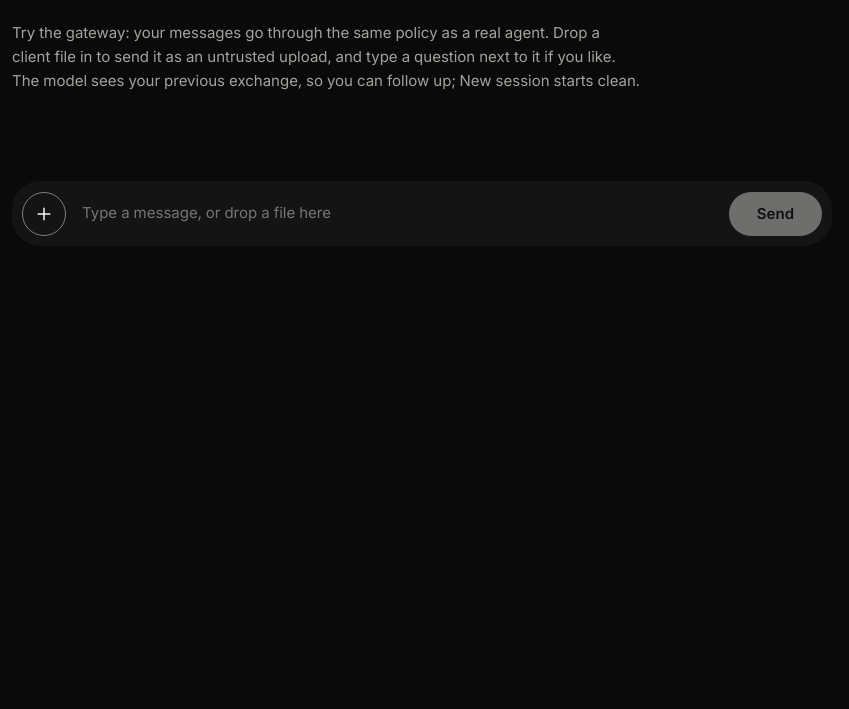
Test: prompts › describes held, redacted and external outcomes in plain words
In the text box labelled "message": (397,213) top-left (78, 191), bottom-right (717, 236), type "one"
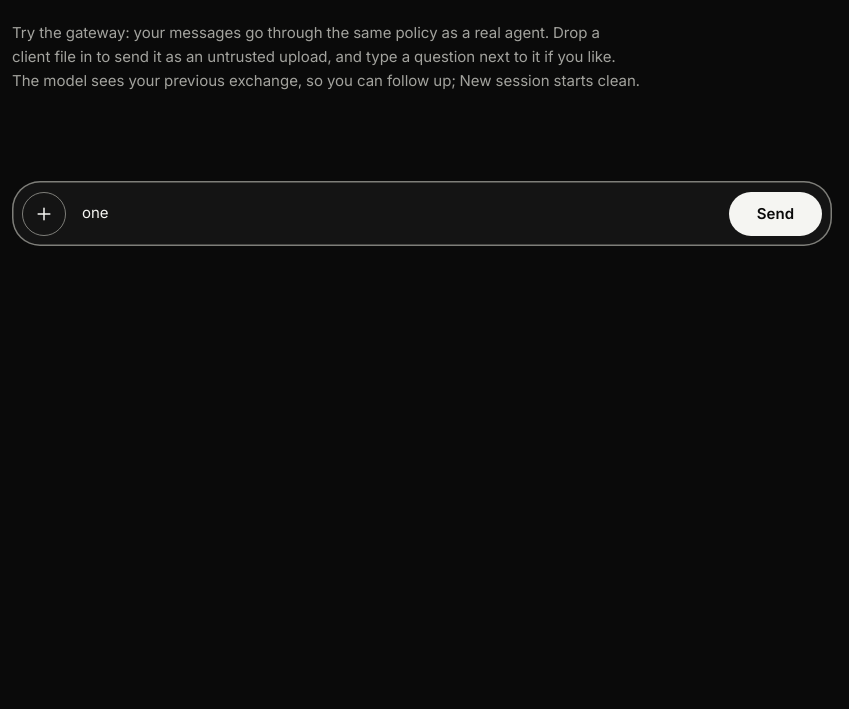
Click the button "Send": (775,214) top-left (729, 192), bottom-right (822, 236)
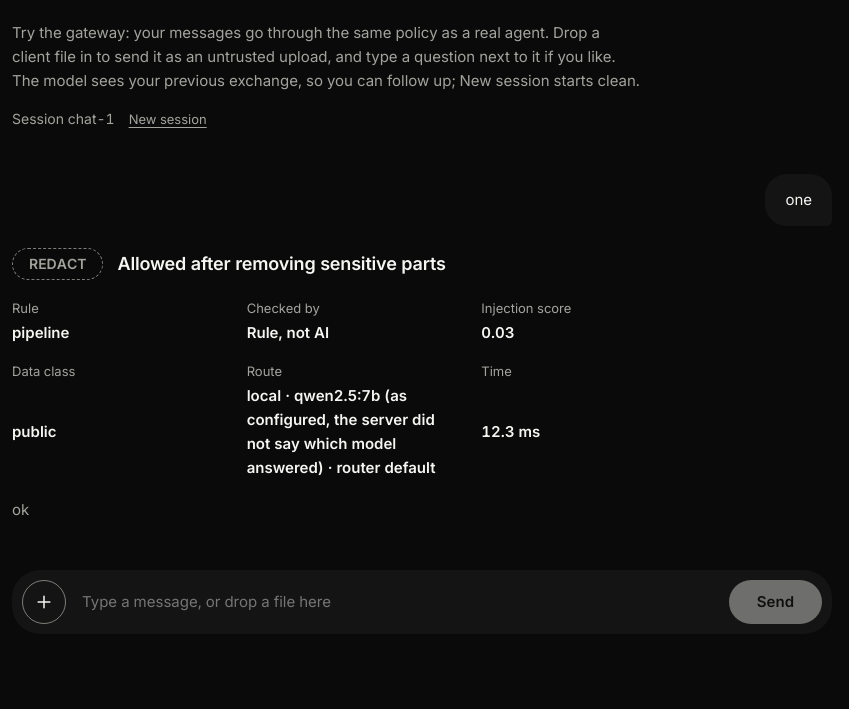
Expected: the text "Allowed after removing sensitive parts" is shown, top-left (118, 250), bottom-right (446, 278)
In the text box labelled "message": (397,602) top-left (78, 580), bottom-right (717, 624), type "two"
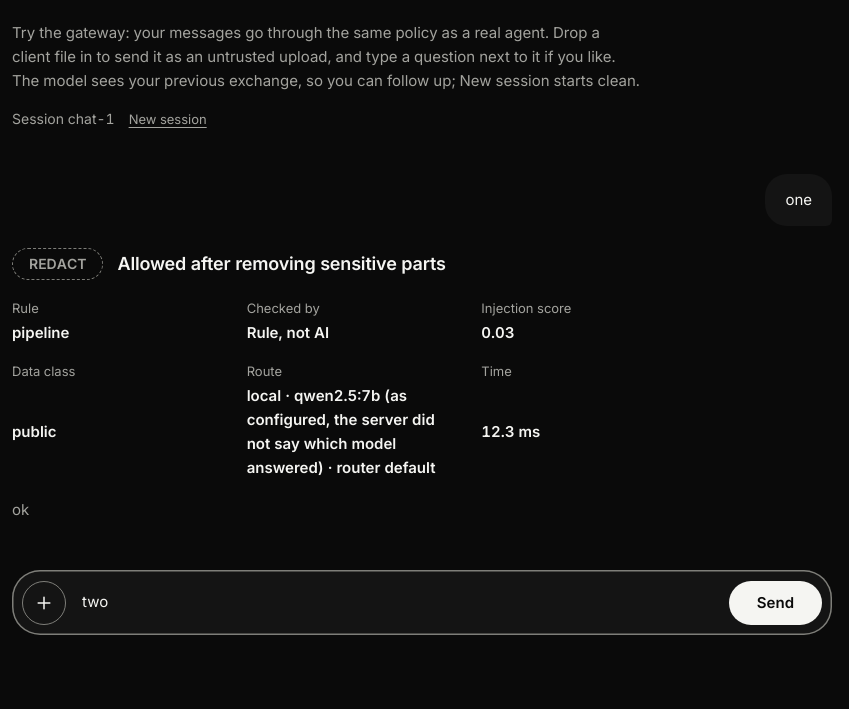
Click the button "Send": (775,603) top-left (729, 581), bottom-right (822, 625)
(page scrolled)
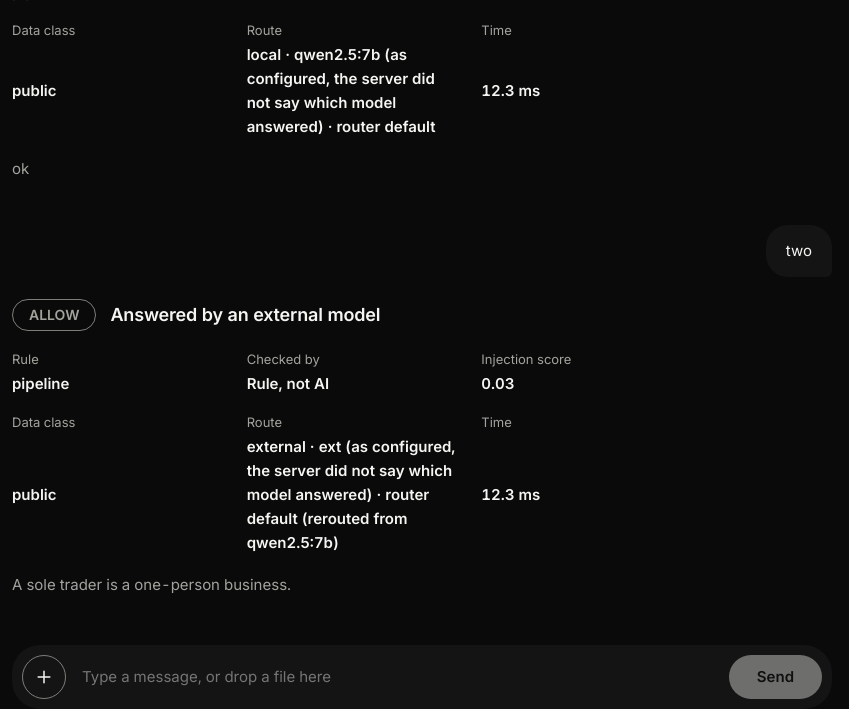
Expected: the text "Answered by an external model" is shown, top-left (110, 301), bottom-right (380, 329)
Expected: the text "rerouted from qwen2.5:7b" is shown, top-left (247, 437), bottom-right (456, 552)
In the text box labelled "message": (397,677) top-left (78, 655), bottom-right (717, 699), type "three"
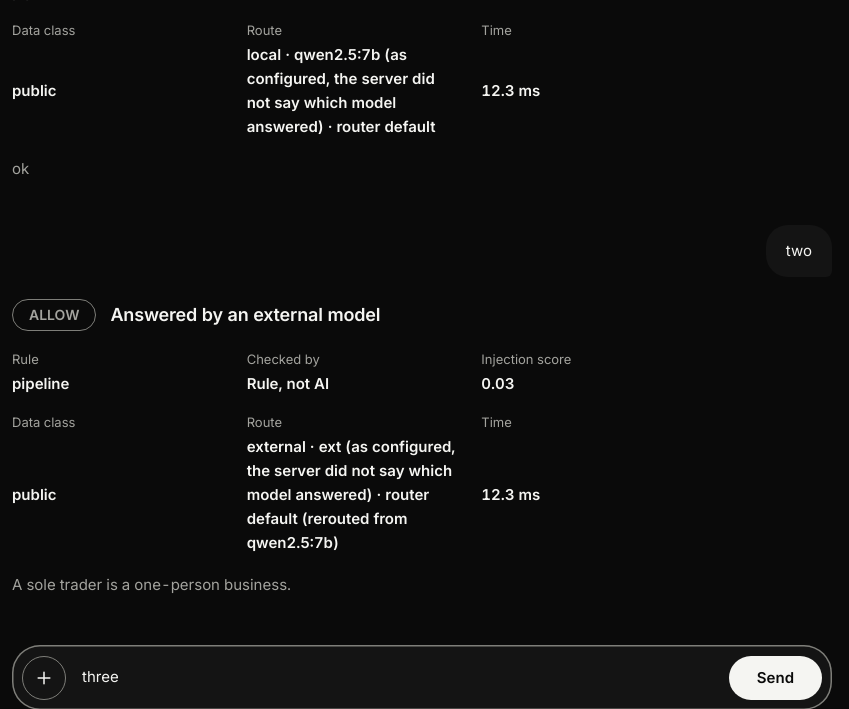
Click the button "Send": (775,678) top-left (729, 656), bottom-right (822, 700)
(page scrolled)
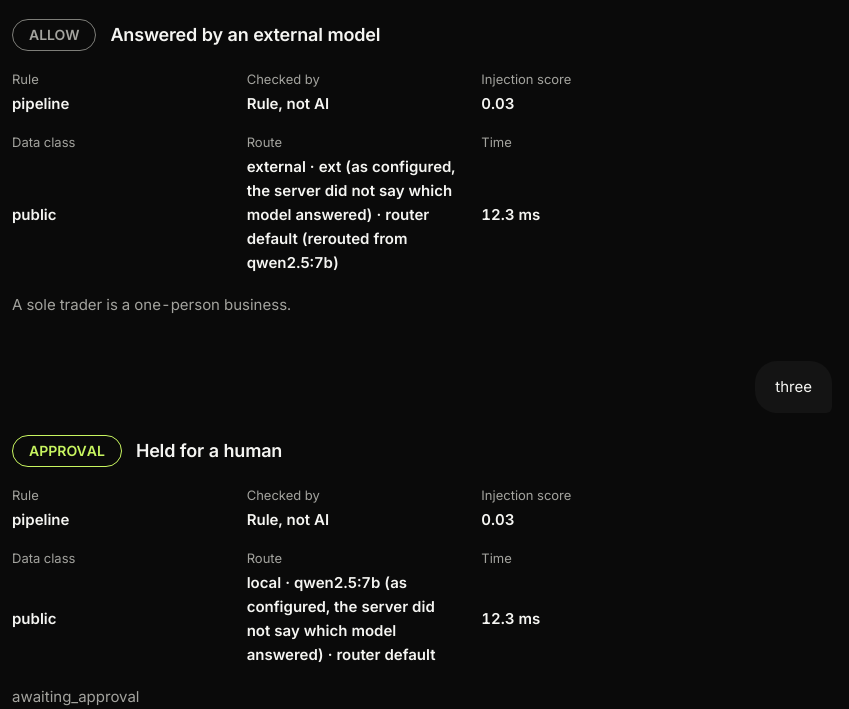
Expected: the text "Held for a human" is shown, top-left (136, 437), bottom-right (282, 465)
